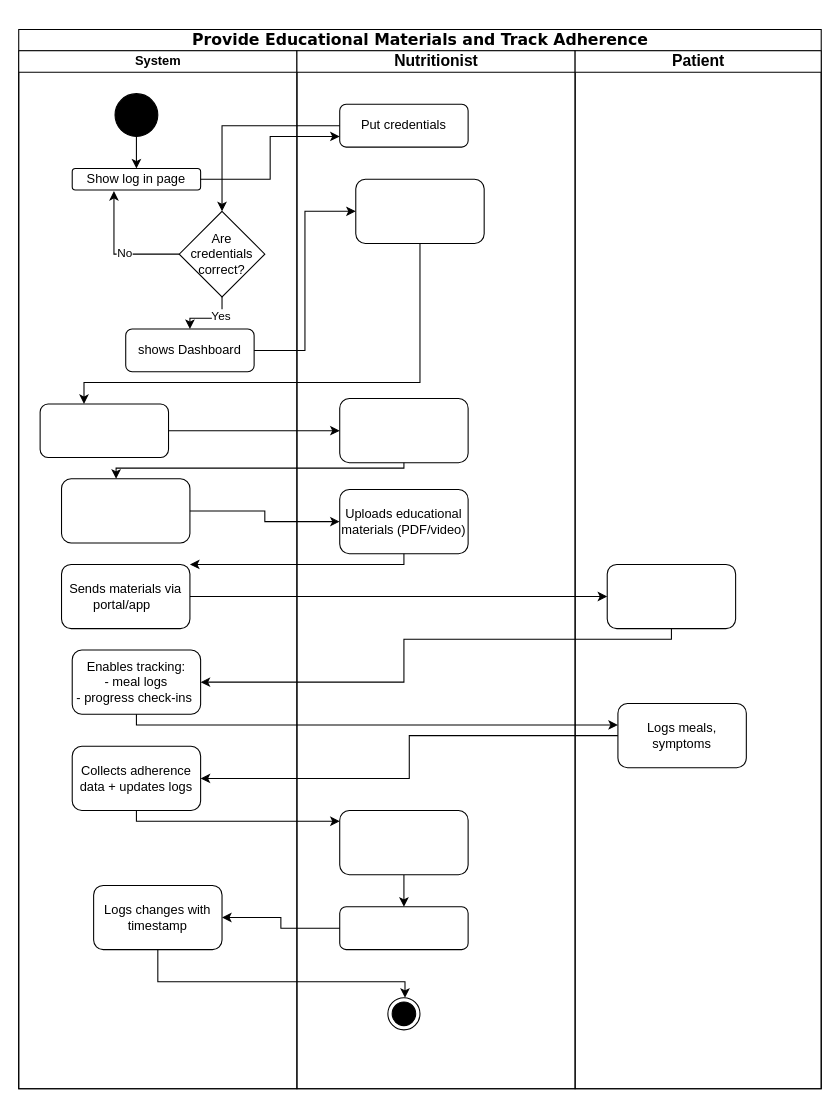
This 840x1107 diagram has some shape labels left out. Here are the shapes that lost their labels. From the top down, the centre of each, then its label:
point (419, 210): Navigates to "Patient Engagement"
point (104, 430): Shows patient list with adherence status
point (403, 430): Selects patient
point (125, 510): Displays dietary plan and progress summary
point (671, 596): Receives content
point (403, 842): Reviews adherence logs
point (403, 928): Adjusts dietary planif needed
